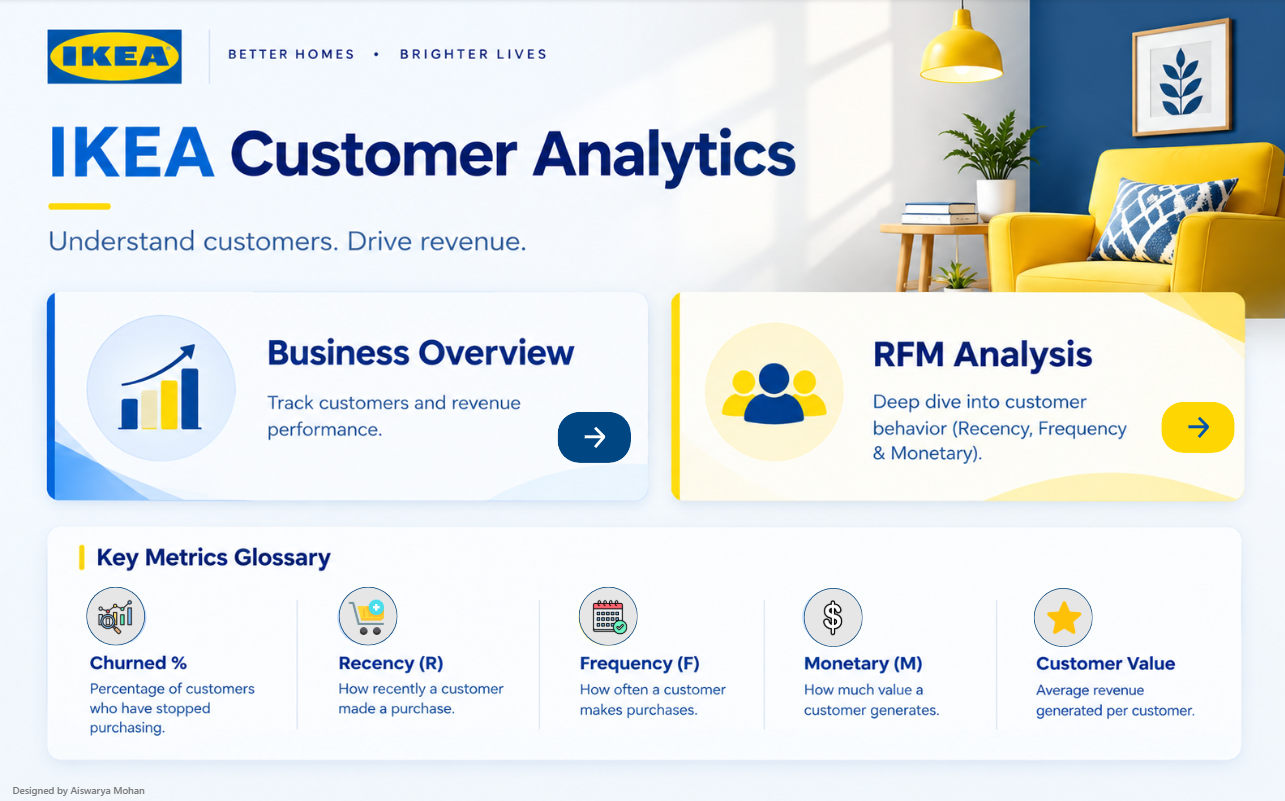

The dashboard page shown, as its layout file describes it:
{"tool":"powerbi","page":{"name":"Home","canvas":[1750,1100],"ordinal":0},"visuals":[{"type":"actionButton","box":[758.9,562.5,100,69.6],"z":0},{"type":"actionButton","box":[1580.4,550,100,69.6],"z":1000},{"type":"shape","box":[117.9,801.8,80,80],"z":2000},{"type":"shape","box":[460.7,801.8,80,80],"z":3000},{"type":"shape","box":[787.5,801.8,80.4,80.4],"z":4000},{"type":"shape","box":[1092.9,803.6,80.4,80.4],"z":5000},{"type":"shape","box":[1407.1,803.6,80.4,80.4],"z":6000},{"type":"image","box":[132.1,812.5,48.2,58.9],"z":7000},{"type":"image","box":[475,812.5,48.2,58.9],"z":8000},{"type":"image","box":[805.4,812.5,48.2,58.9],"z":9000},{"type":"image","box":[1085.7,798.2,96.4,91.1],"z":10000},{"type":"image","box":[1417.9,819.6,58.9,46.4],"z":11000},{"type":"textbox","box":[17.9,1067.9,251.8,19.6],"z":12000}]}

Visuals, with their boxes in screenshot pixels (x1, y1, x2, y2), scaled from the page's 1750x1100 canvas onto the 1285x801 screenshot:
actionButton: <box>557,410,631,460</box>
actionButton: <box>1160,400,1234,451</box>
shape: <box>87,584,145,642</box>
shape: <box>338,584,397,642</box>
shape: <box>578,584,637,642</box>
shape: <box>803,585,862,644</box>
shape: <box>1033,585,1092,644</box>
image: <box>97,592,132,635</box>
image: <box>349,592,384,635</box>
image: <box>591,592,627,635</box>
image: <box>797,581,868,648</box>
image: <box>1041,597,1084,631</box>
textbox: <box>13,778,198,792</box>
